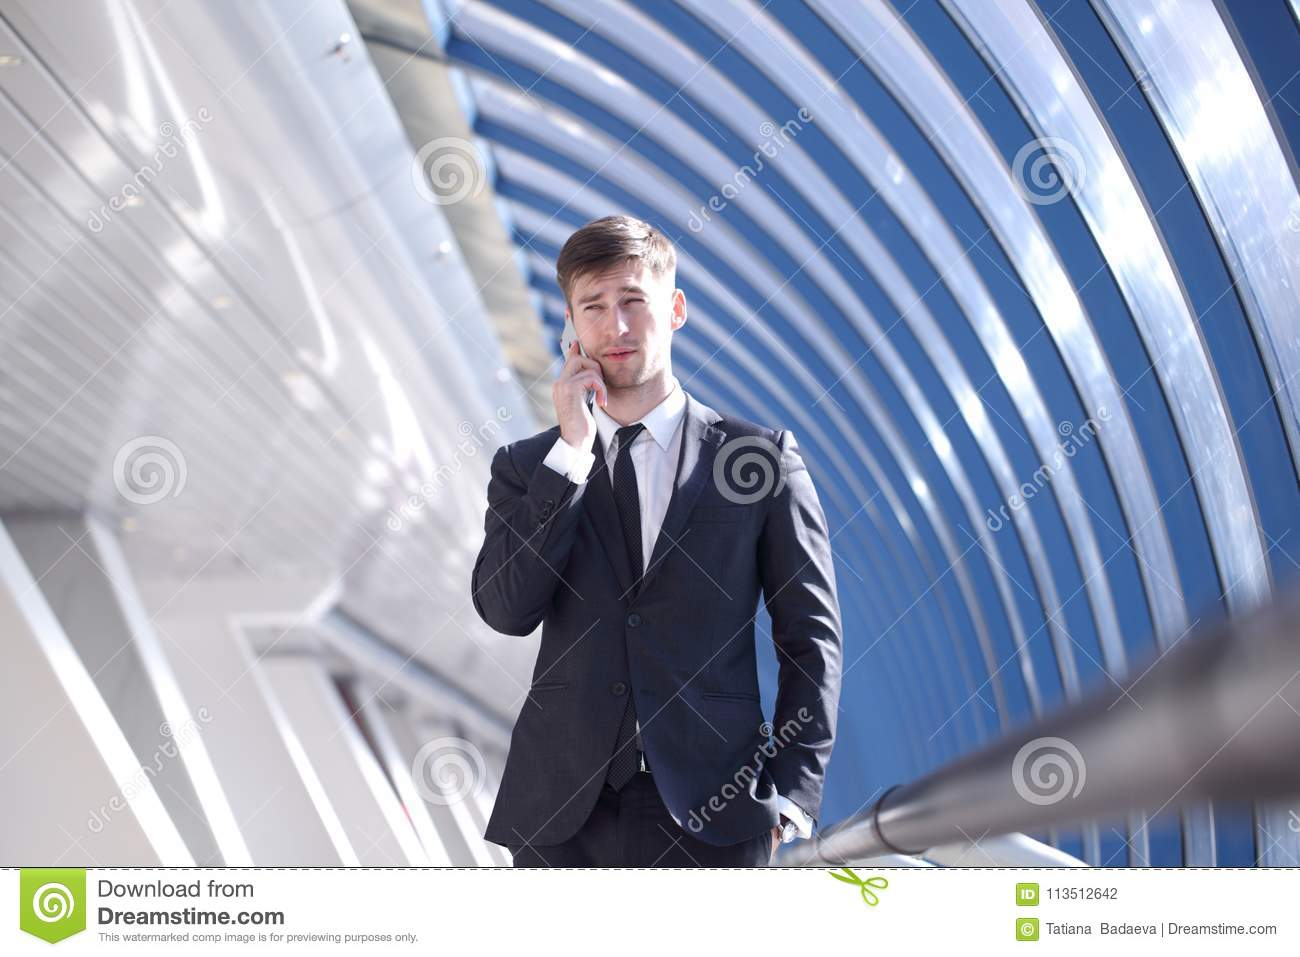phone: (560, 314, 603, 411)
talk: (555, 283, 657, 438)
